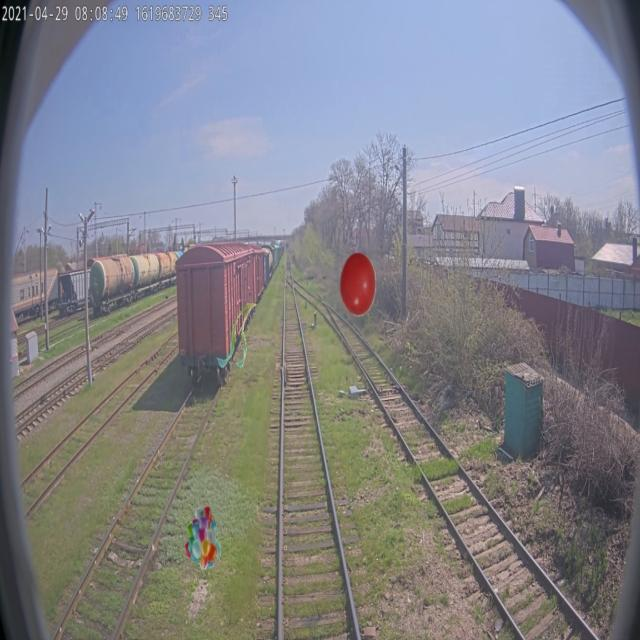balloon: (184, 506, 221, 570), (340, 252, 376, 316)
floating object: (217, 304, 258, 368)
